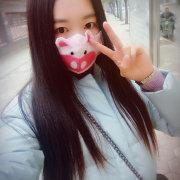OK: (45, 8, 110, 74)
